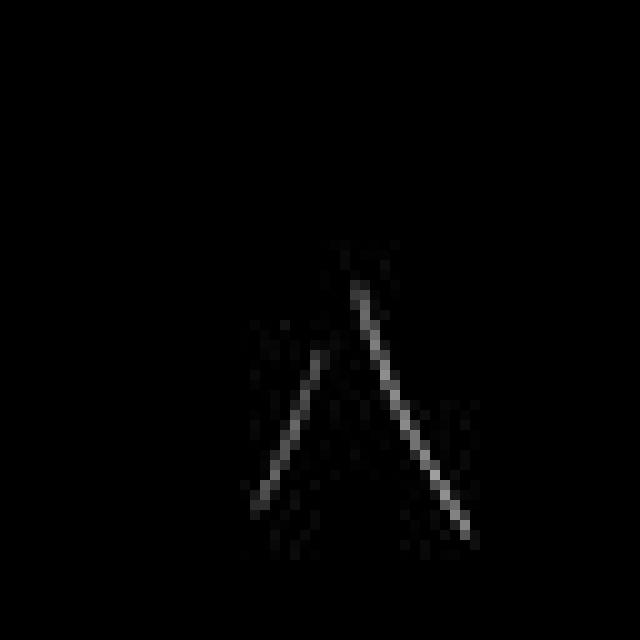8 -eight-: (234, 276, 496, 550)
